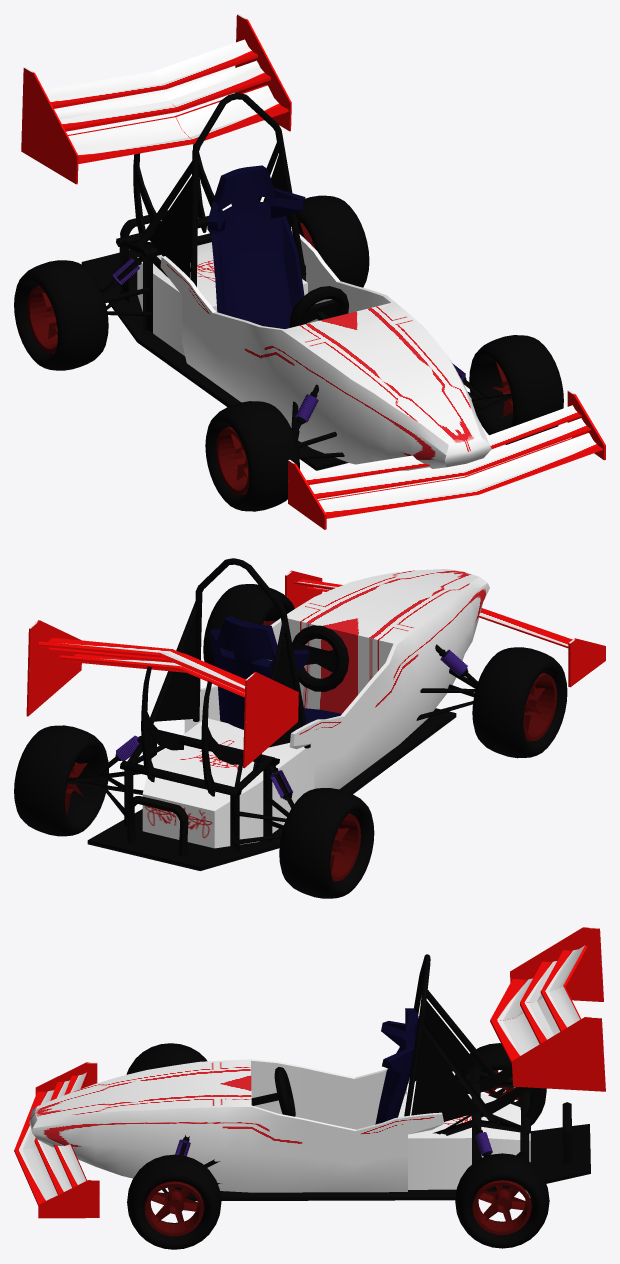
File: formula-student-car.fbx
3 renders of one model, top to bottom at view 1: azimuth 30°, elevation 25°; view 2: azimuth 150°, elevation 25°; view 3: azimuth 270°, elevation 25°, orthographic. The views are drawn at different scales.
Visible parts, largest first — view 1: Kabuk, Arka Ruzgarlik, On Ruzgarlik, Koltuk, Sol on teker.001, Sol on teker.004, Sol on teker.002, Demir, Sol on teker.003, Alt Govde, Motor, C Demir (+6 smaller); view 2: Kabuk, Motor, Arka Ruzgarlik, Sol on teker.003, Demir, Sol on teker.001, Sol on teker.002, Alt Govde, Koltuk, On Ruzgarlik, Sol on teker.004, Ucgen Bayrak (+7 smaller); view 3: Kabuk, Arka Ruzgarlik, On Ruzgarlik, Motor, Alt Govde, Sol on teker.003, Sol on teker.004, Ucgen Bayrak, Demir, Koltuk, Sag on jant.001, Sag on jant.002 (+6 smaller).
Part boxes in pixels (<box>): Kabuk: <box>160,227,491,470</box>; Arka Ruzgarlik: <box>21,14,291,184</box>; On Ruzgarlik: <box>288,390,605,529</box>; Koltuk: <box>207,165,307,328</box>; Sol on teker.001: <box>14,260,108,370</box>; Sol on teker.004: <box>469,335,563,444</box>; Sol on teker.002: <box>205,401,299,511</box>; Demir: <box>101,142,511,458</box>; Sol on teker.003: <box>289,195,369,287</box>; Alt Govde: <box>81,248,348,470</box>; Motor: <box>137,242,307,356</box>; C Demir: <box>190,93,306,286</box>; Kabuk: <box>184,569,489,789</box>; Motor: <box>142,718,310,848</box>; Arka Ruzgarlik: <box>26,620,298,768</box>; Sol on teker.003: <box>14,725,108,836</box>; Demir: <box>67,601,477,851</box>; Sol on teker.001: <box>279,788,374,898</box>; Sol on teker.002: <box>472,647,567,758</box>; Alt Govde: <box>87,708,456,870</box>; Koltuk: <box>210,616,341,729</box>; On Ruzgarlik: <box>285,570,605,687</box>; Sol on teker.004: <box>203,584,294,665</box>; Ucgen Bayrak: <box>154,615,301,747</box>; Kabuk: <box>29,1059,444,1192</box>; Arka Ruzgarlik: <box>490,927,605,1091</box>; On Ruzgarlik: <box>14,1062,99,1218</box>; Motor: <box>398,1094,530,1189</box>; Alt Govde: <box>174,1124,590,1201</box>; Sol on teker.003: <box>455,1153,549,1248</box>; Sol on teker.004: <box>127,1154,221,1249</box>; Ucgen Bayrak: <box>411,1001,479,1121</box>; Demir: <box>162,989,531,1193</box>; Koltuk: <box>375,1008,418,1124</box>; Sag on jant.001: <box>144,1181,203,1236</box>; Sag on jant.002: <box>472,1180,531,1234</box>.
Size of the model in its own units: 523 by 429 by 992.
